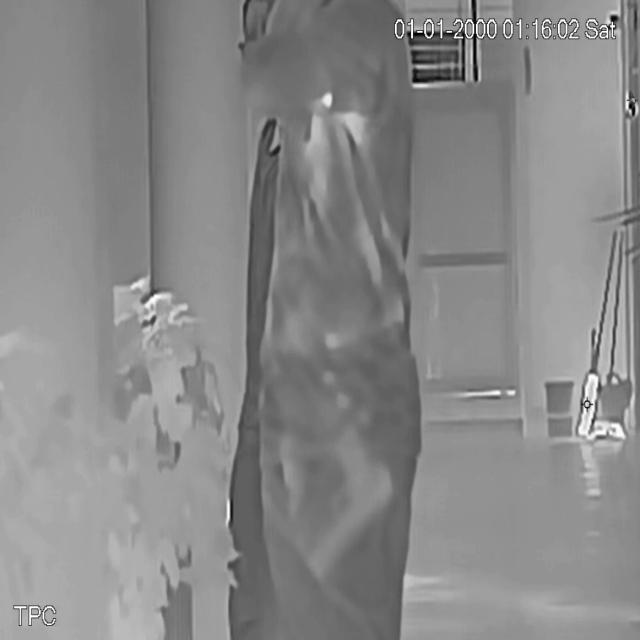Weapon: (295, 408, 402, 576)
